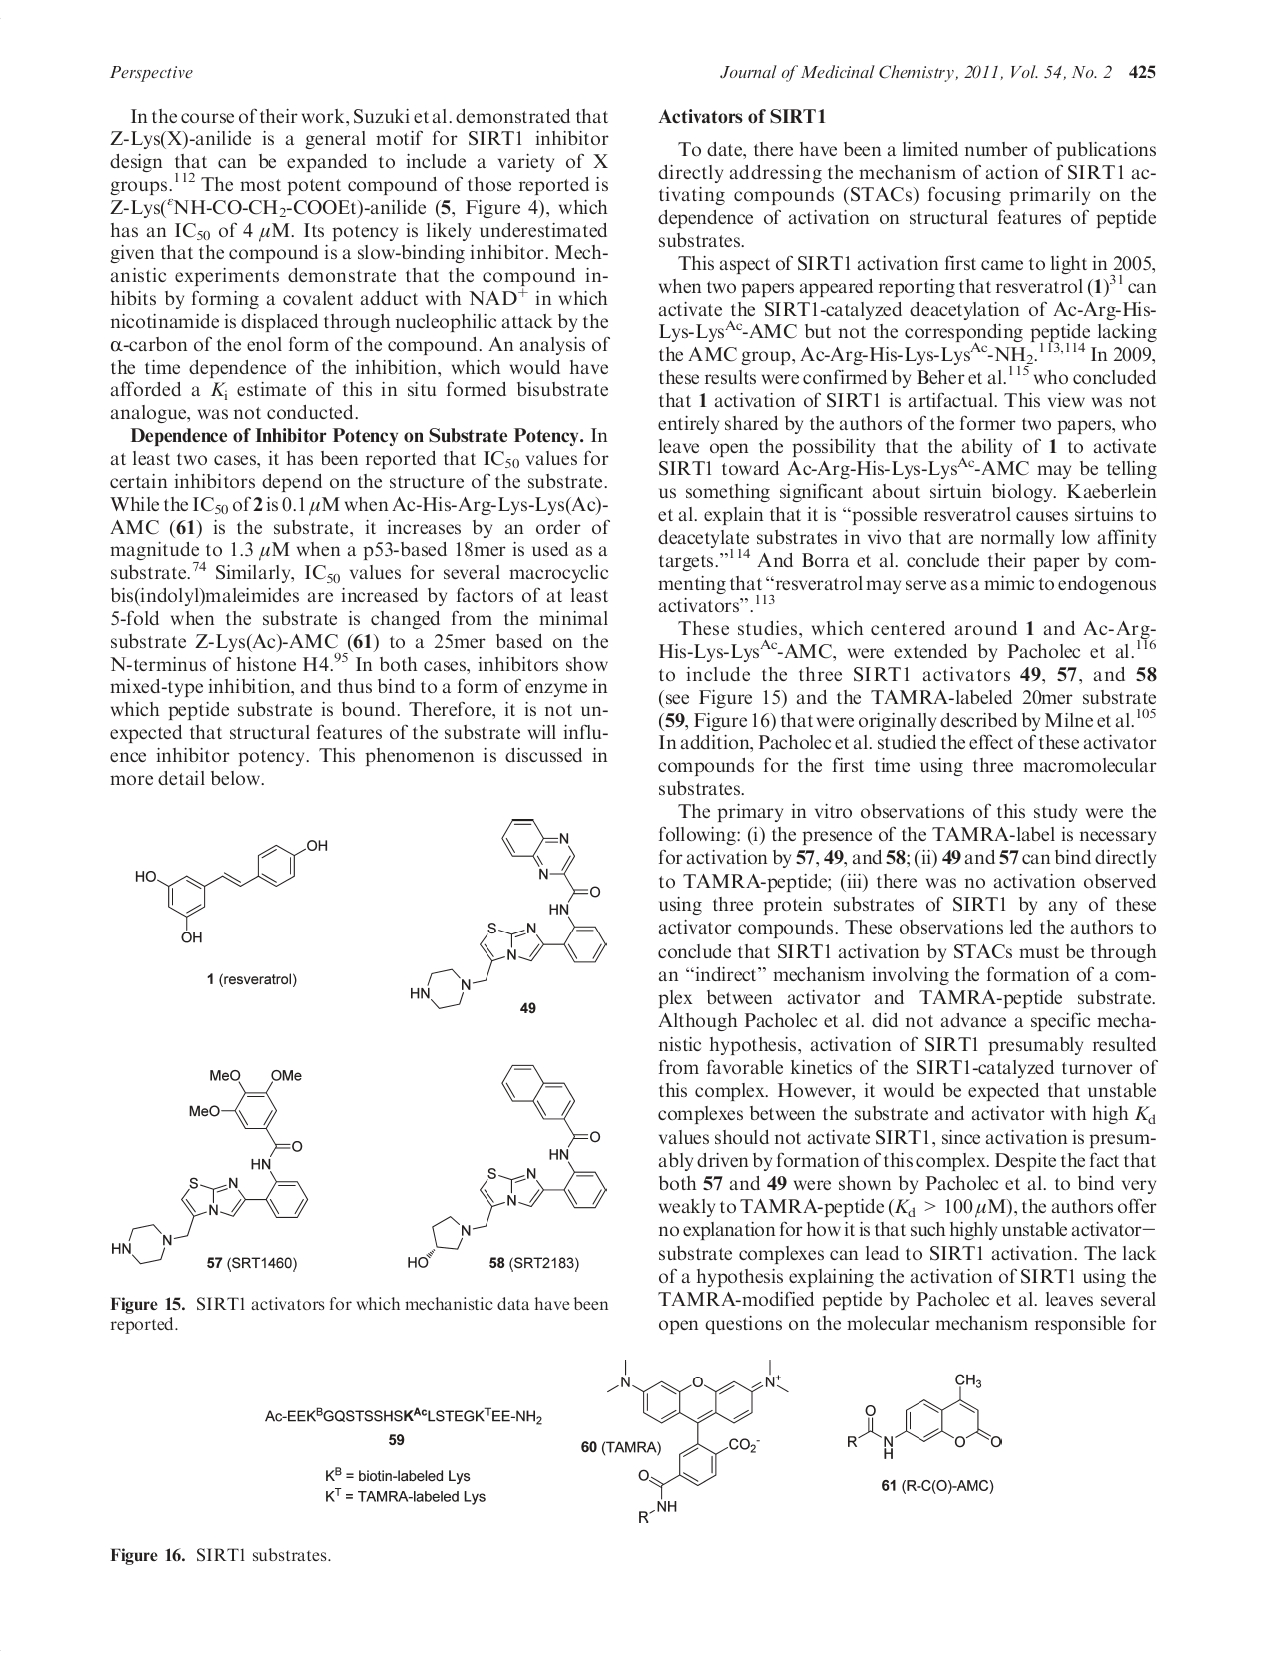exist_molecular: (406, 1060, 610, 1270), (109, 1064, 309, 1263), (410, 817, 610, 1009), (604, 1354, 793, 1528), (132, 838, 328, 942), (842, 1371, 1004, 1464)
